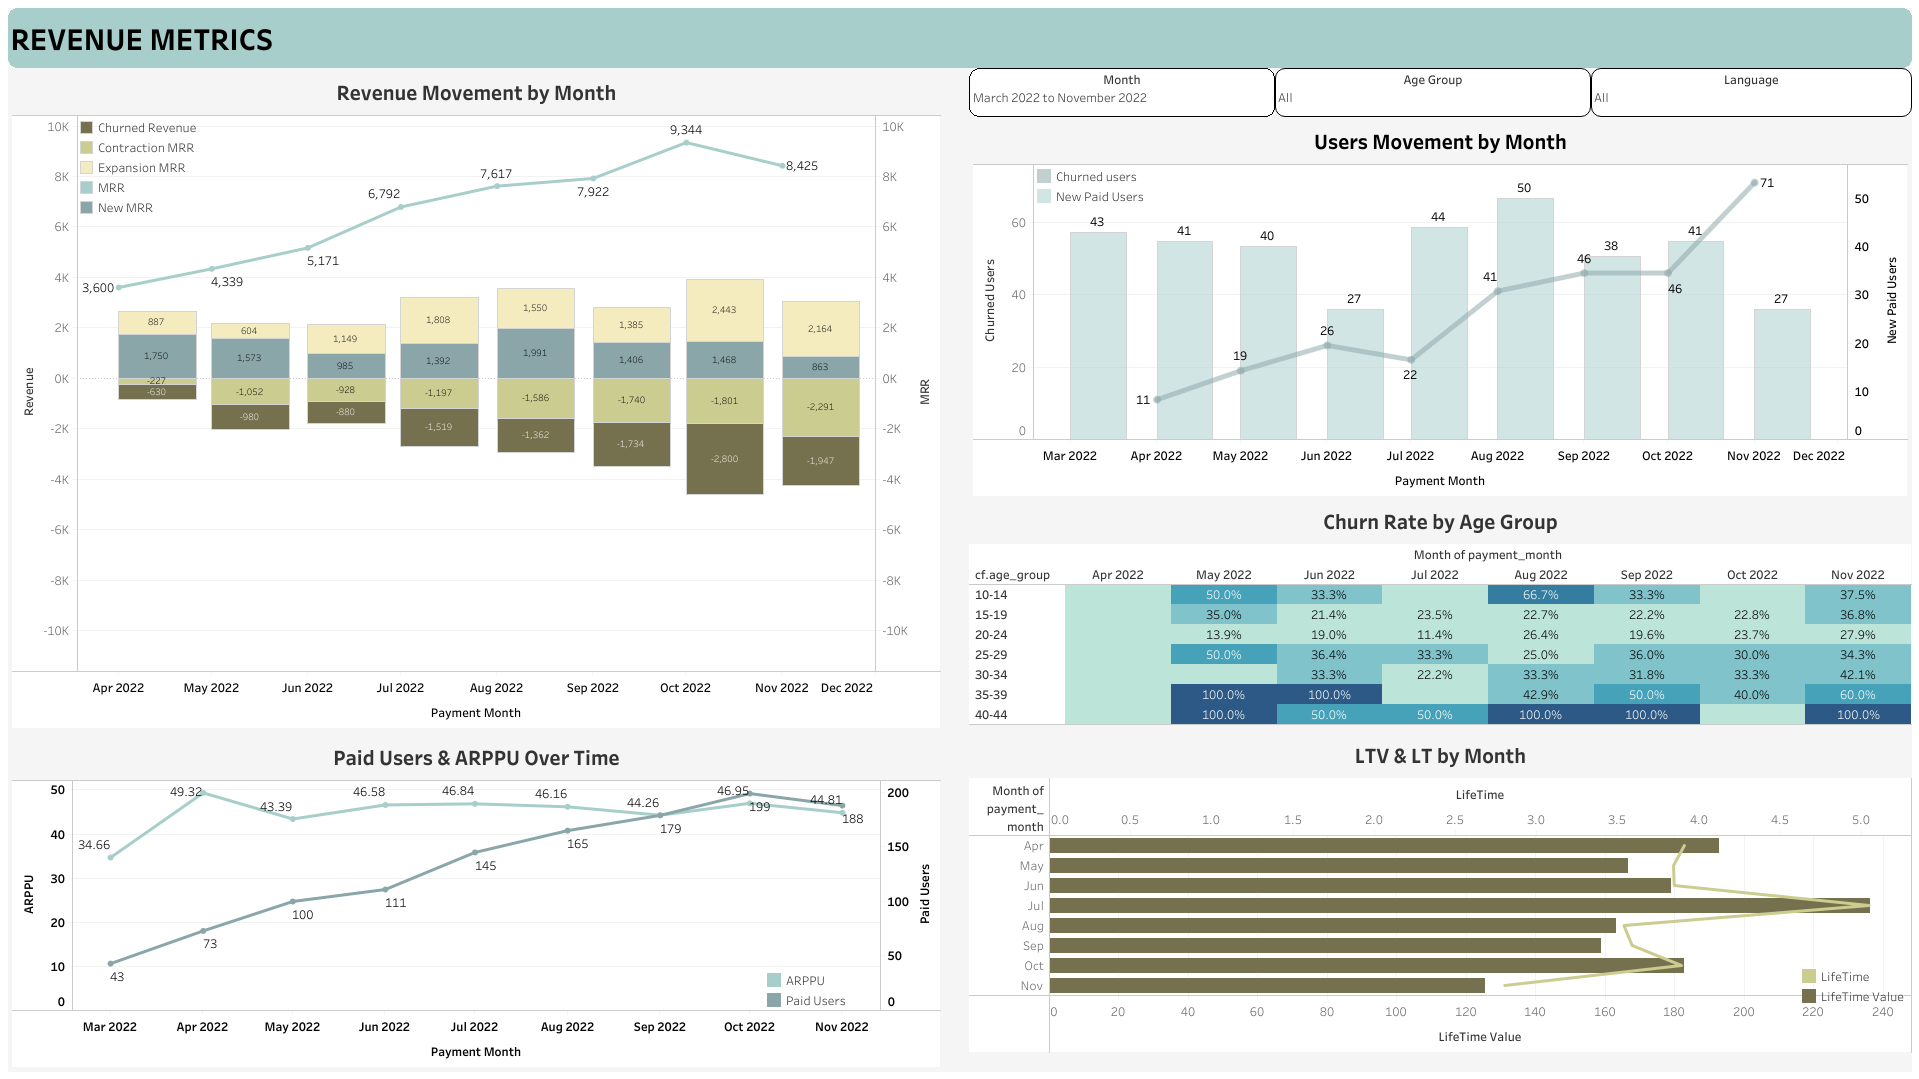

This screenshot's page, from the dashboard's own definition file:
{"tool":"tableau","page":{"name":"Dashboard 1","canvas":[1920,1080],"ordinal":0},"visuals":[{"type":"title","box":[8,8,1904,60]},{"type":"worksheet","title":"Revenue Movement by Month","mark":"Bar","rows":["Calculation_0541002613059585"],"cols":["payment_month"],"box":[8,68,937,665]},{"type":"blank","box":[945,68,24,1004]},{"type":"filter","title":"Paid Users & ARPPU Over Time","param":"[federated.0f9iytw0ku3mo01066mtp0ologuu].[tmn:payment_month:qk]","box":[969,68,306,49]},{"type":"filter","title":"Churn Rate by Age Group","param":"[federated.0f9iytw0ku3mo01066mtp0ologuu].[none:Calculation_0658100682649606:nk]","box":[1275,68,316,49]},{"type":"filter","title":"Revenue Movement by Month","param":"[federated.0f9iytw0ku3mo01066mtp0ologuu].[none:language:nk]","box":[1591,68,321,49]},{"type":"legend","title":"Revenue Movement by Month","param":"[federated.0f9iytw0ku3mo01066mtp0ologuu].[:Measure Names]","box":[76,117,151,102]},{"type":"worksheet","title":"Users Movement by Month","mark":"Bar","rows":["Calculation_0720499342827524","Calculation_0541002615861252"],"cols":["payment_month"],"box":[969,117,943,384]},{"type":"legend","title":"Users Movement by Month","param":"[federated.0f9iytw0ku3mo01066mtp0ologuu].[:Measure Names]","box":[1034,166,216,41]},{"type":"worksheet","title":"Churn Rate by Age Group","mark":"Square","rows":["Calculation_0658100682649606"],"cols":["payment_month"],"box":[969,501,943,234]},{"type":"worksheet","title":"Paid Users & ARPPU Over Time","mark":"Automatic","rows":["Calculation_0541002613731330","Calculation_0541002612838400"],"cols":["payment_month"],"box":[8,733,937,339]},{"type":"worksheet","title":"LTV & LT by Month","mark":"Bar","rows":["payment_month"],"box":[969,735,943,337]},{"type":"legend","title":"LTV & LT by Month","param":"[federated.0f9iytw0ku3mo01066mtp0ologuu].[:Measure Names]","box":[1799,966,126,40]},{"type":"legend","title":"Paid Users & ARPPU Over Time","param":"[federated.0f9iytw0ku3mo01066mtp0ologuu].[:Measure Names]","box":[764,970,113,41]}]}

Visuals, with their boxes in screenshot pixels (x1, y1, x2, y2), scaled from the page's 1920x1080 canvas onto the 1919x1079 screenshot:
title: Rect(8, 8, 1911, 68)
"Revenue Movement by Month" worksheet (Bar marks): Rect(8, 68, 945, 732)
blank: Rect(945, 68, 968, 1071)
"Paid Users & ARPPU Over Time" filter: Rect(968, 68, 1274, 117)
"Churn Rate by Age Group" filter: Rect(1274, 68, 1590, 117)
"Revenue Movement by Month" filter: Rect(1590, 68, 1911, 117)
"Revenue Movement by Month" legend: Rect(76, 117, 227, 219)
"Users Movement by Month" worksheet (Bar marks): Rect(968, 117, 1911, 501)
"Users Movement by Month" legend: Rect(1033, 166, 1249, 207)
"Churn Rate by Age Group" worksheet (Square marks): Rect(968, 501, 1911, 734)
"Paid Users & ARPPU Over Time" worksheet: Rect(8, 732, 945, 1071)
"LTV & LT by Month" worksheet (Bar marks): Rect(968, 734, 1911, 1071)
"LTV & LT by Month" legend: Rect(1798, 965, 1918, 1005)
"Paid Users & ARPPU Over Time" legend: Rect(764, 969, 877, 1010)
